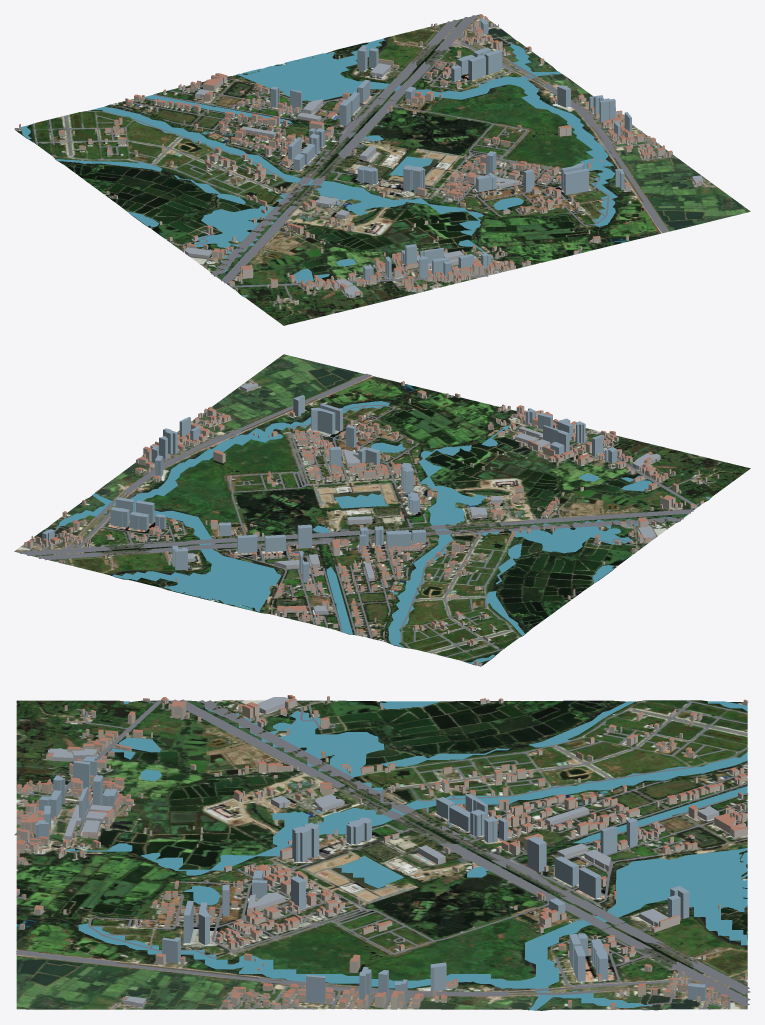
The picture shows the model from 3 angles, top to bottom: view 1: azimuth 30°, elevation 25°; view 2: azimuth 150°, elevation 25°; view 3: azimuth 270°, elevation 25°; orthographic projection. The views are drawn at different scales.
Visible parts, largest first — view 1: TERRAIN, WATER, ROAD_METRO, BLD_TUBE_SHOPHOUSE, BLD_MODERN_TOWER, BLD_INDUSTRIAL_PORT; view 2: TERRAIN, WATER, ROAD_METRO, BLD_TUBE_SHOPHOUSE, BLD_MODERN_TOWER, BLD_INDUSTRIAL_PORT; view 3: TERRAIN, WATER, ROAD_METRO, BLD_TUBE_SHOPHOUSE, BLD_MODERN_TOWER, BLD_INDUSTRIAL_PORT.
Part boxes in pixels (box(x1,y1,x2,y2)): TERRAIN: box(14, 14, 750, 325); WATER: box(21, 38, 617, 296); ROAD_METRO: box(14, 15, 715, 306); BLD_TUBE_SHOPHOUSE: box(19, 14, 701, 309); BLD_MODERN_TOWER: box(270, 18, 631, 280); BLD_INDUSTRIAL_PORT: box(58, 22, 703, 297); TERRAIN: box(14, 354, 750, 666); WATER: box(56, 401, 710, 664); ROAD_METRO: box(19, 373, 716, 665); BLD_TUBE_SHOPHOUSE: box(24, 381, 719, 665); BLD_MODERN_TOWER: box(42, 395, 617, 582); BLD_INDUSTRIAL_PORT: box(31, 382, 696, 646); TERRAIN: box(16, 700, 747, 1010); WATER: box(66, 701, 747, 1010); ROAD_METRO: box(14, 699, 750, 1009); BLD_TUBE_SHOPHOUSE: box(16, 695, 747, 1009); BLD_MODERN_TOWER: box(35, 756, 705, 1003); BLD_INDUSTRIAL_PORT: box(16, 697, 747, 1009).
Bounding box in the file's own units: 2011 × 92.64 × 2016.
Materials: 2 (1 with a texture image).
